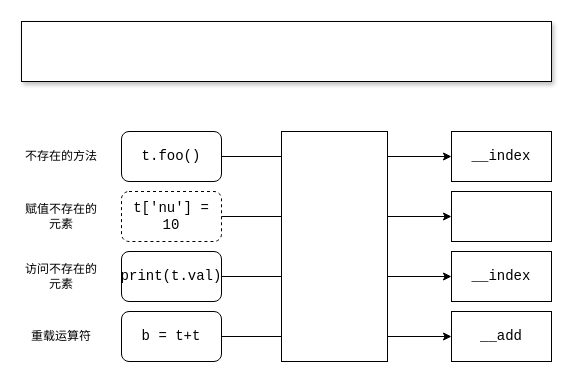
Image size: 575x379. Some labels were removed from this diagram. The centre of each missing label's shape, as x and y in pixels:
"... local t = {} >" goes at point (287, 52).
"__newindex" goes at point (501, 216).
"找元表" goes at point (334, 246).
